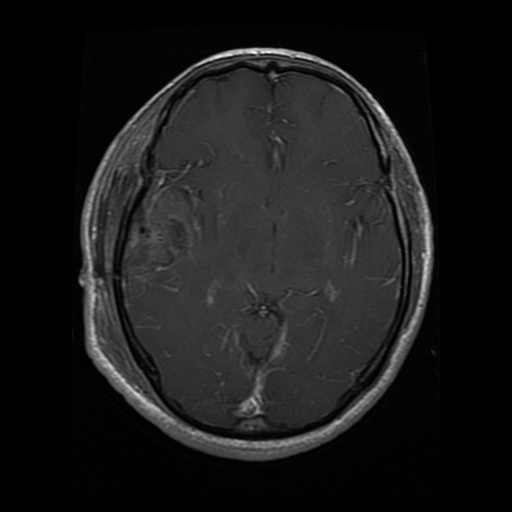glioma: (123, 183, 214, 304)
